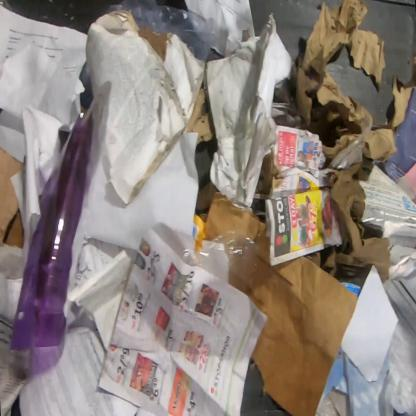cardboard: (203, 189, 359, 415), (304, 156, 391, 284), (0, 145, 26, 249), (186, 88, 213, 146), (195, 180, 218, 223)
soft_plastic: (8, 112, 94, 351), (105, 0, 218, 62), (175, 230, 260, 296), (326, 113, 373, 171)
